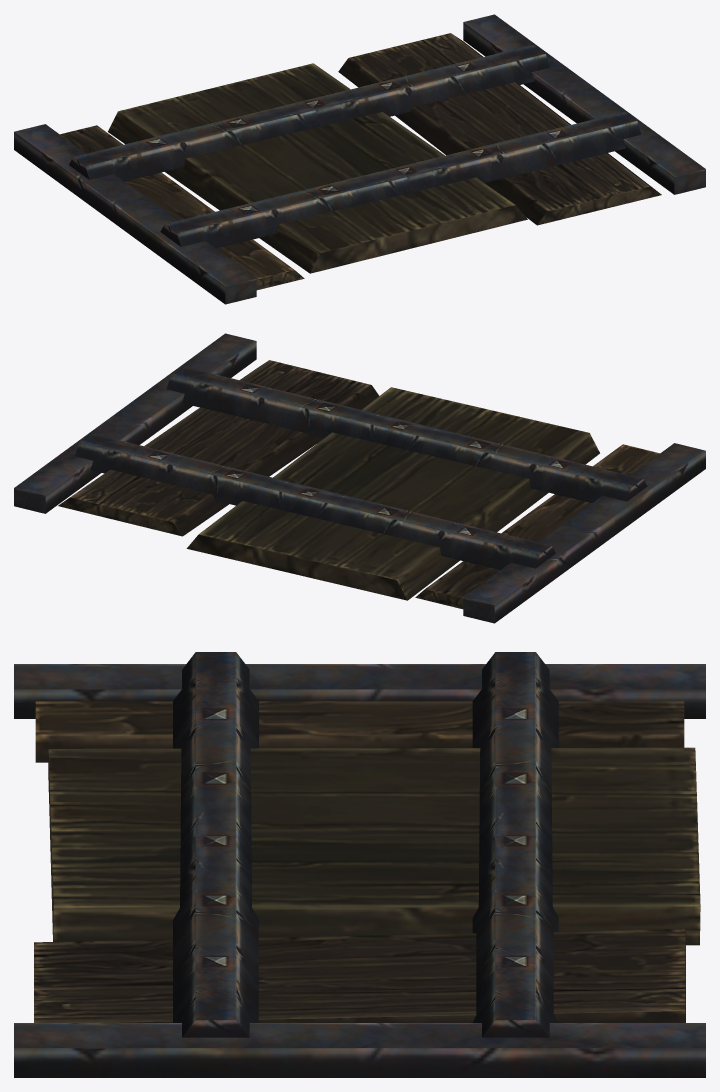
The model's file is B_muban001.fbx.
The picture shows the model from 3 angles, top to bottom: view 1: azimuth 30°, elevation 25°; view 2: azimuth 150°, elevation 25°; view 3: azimuth 270°, elevation 25°; orthographic projection. The views are drawn at different scales.
Visible parts, largest first — view 1: B_muban001; view 2: B_muban001; view 3: B_muban001.
Part boxes in pixels (x1=…): B_muban001: x1=14, y1=14, x2=705, y2=304; B_muban001: x1=14, y1=333, x2=705, y2=623; B_muban001: x1=14, y1=652, x2=705, y2=1077.
Bounding box in the file's own units: 240 × 15.33 × 183.
